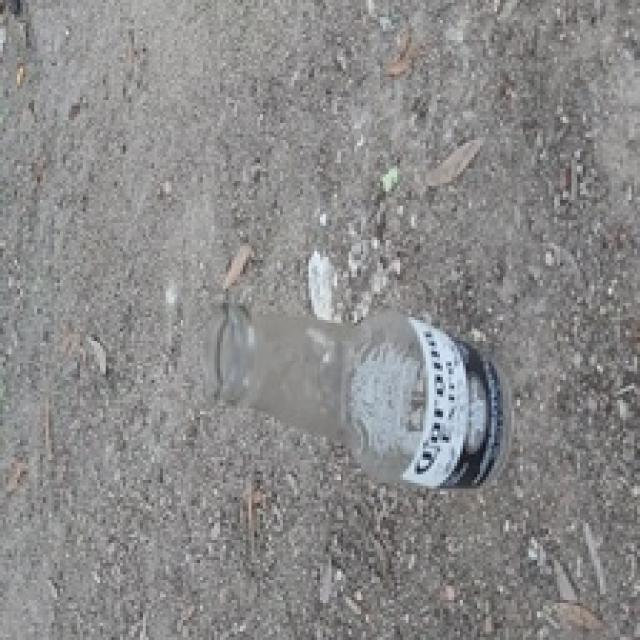Glass: (178, 300, 520, 497)
